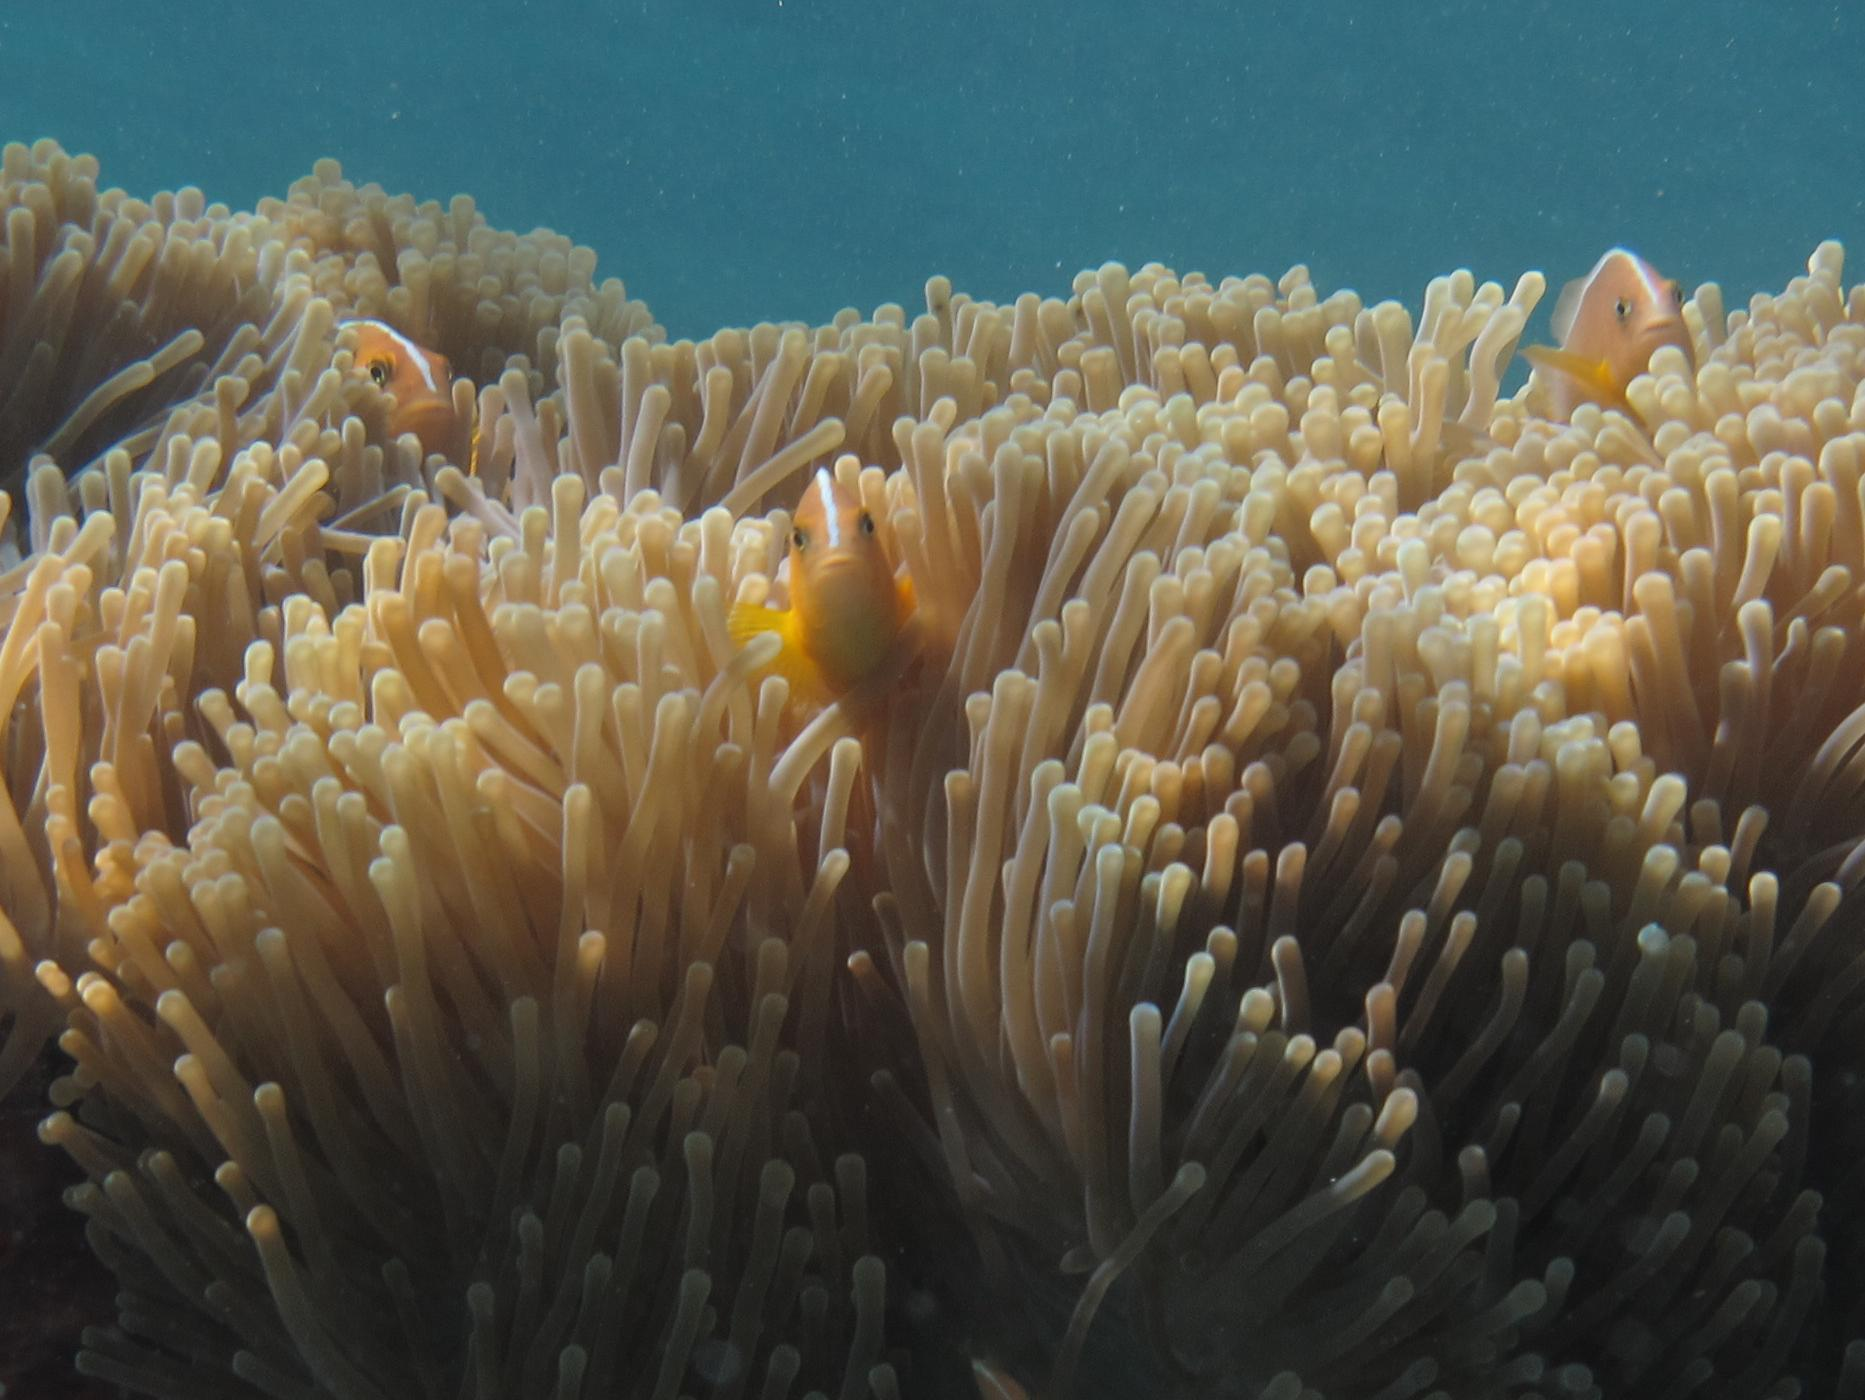Amphiprion akallopsis: (653, 428, 1035, 790), (1503, 241, 1730, 457), (265, 293, 497, 494)
